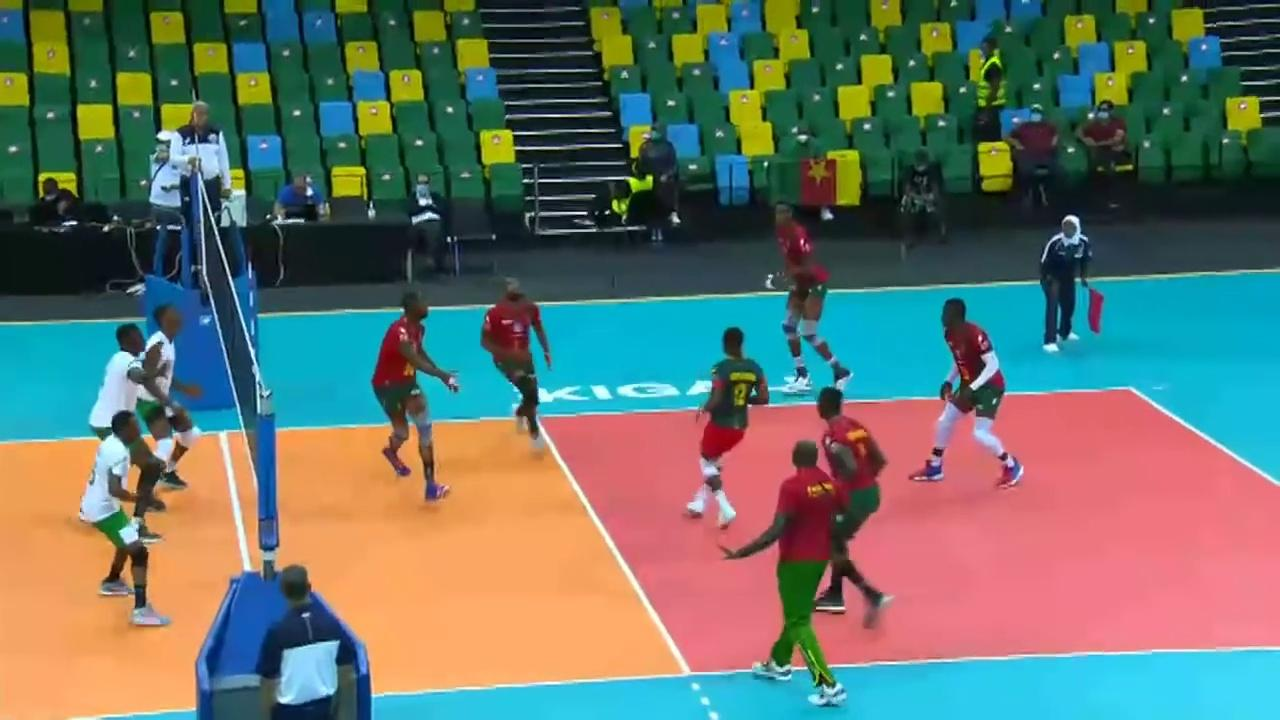player: (914, 301, 1025, 487), (373, 286, 465, 510), (85, 317, 176, 541), (813, 384, 899, 620), (80, 409, 171, 630), (682, 321, 770, 534), (474, 270, 559, 460), (771, 199, 851, 397), (135, 296, 215, 488)
refree: (252, 560, 370, 720), (164, 93, 241, 268), (1030, 207, 1104, 341)
